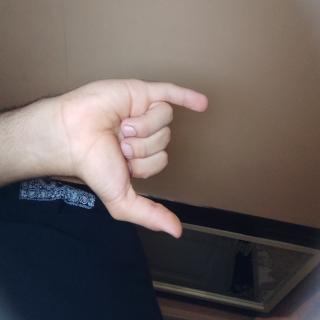YA: (52, 133, 187, 320)
